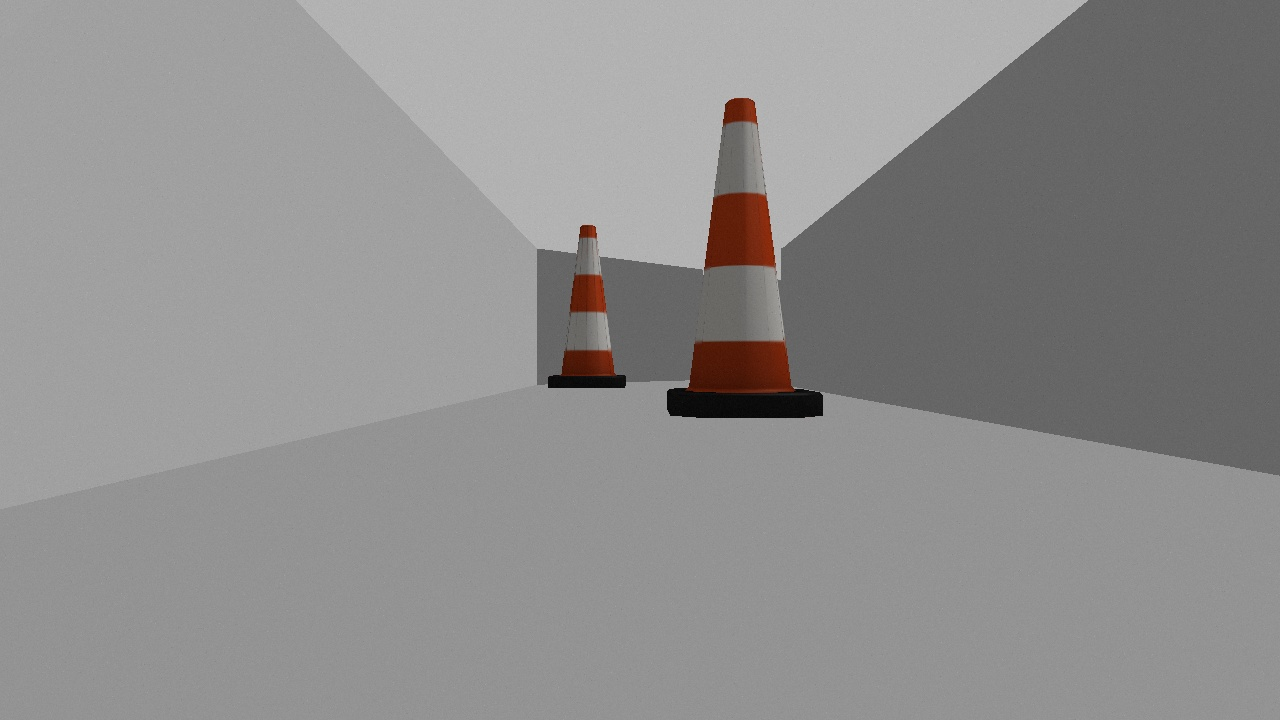barricade: (659, 91, 829, 427), (543, 221, 633, 394)
